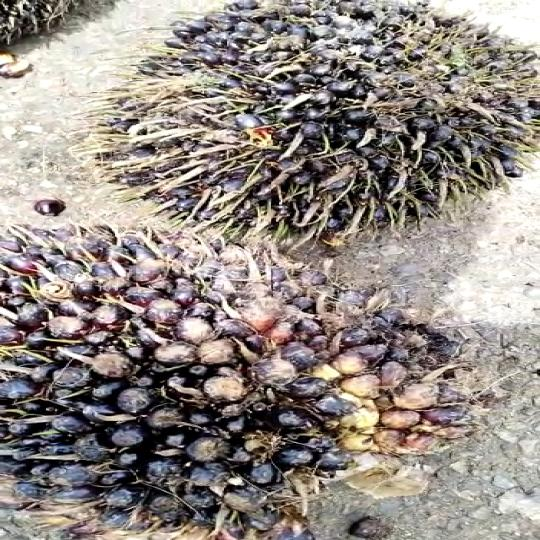mentah: (7, 218, 481, 540), (117, 0, 540, 262)
